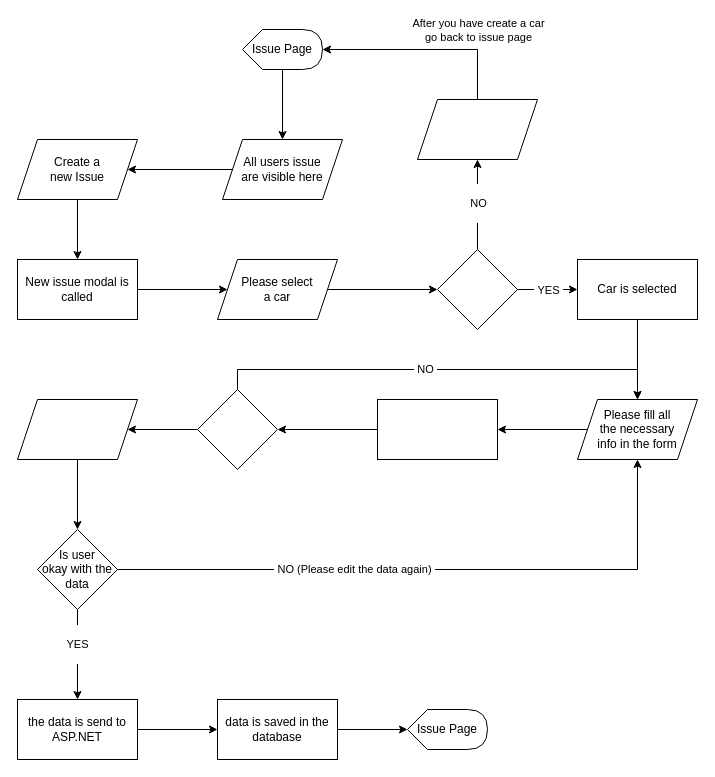
Image size: 715x777. Some labels were removed from this diagram. The shapes that lost their labels are listed below. From the top down, each one's box as (x1, y1, x2, y2) in pixels, then its label:
(416, 98, 538, 160): Please create a car on car page
(436, 248, 518, 330): Does a car exists
(16, 398, 138, 460): User data overview before saving
(196, 388, 278, 470): is all data inserted
(376, 398, 498, 460): User insert the data and upload video
